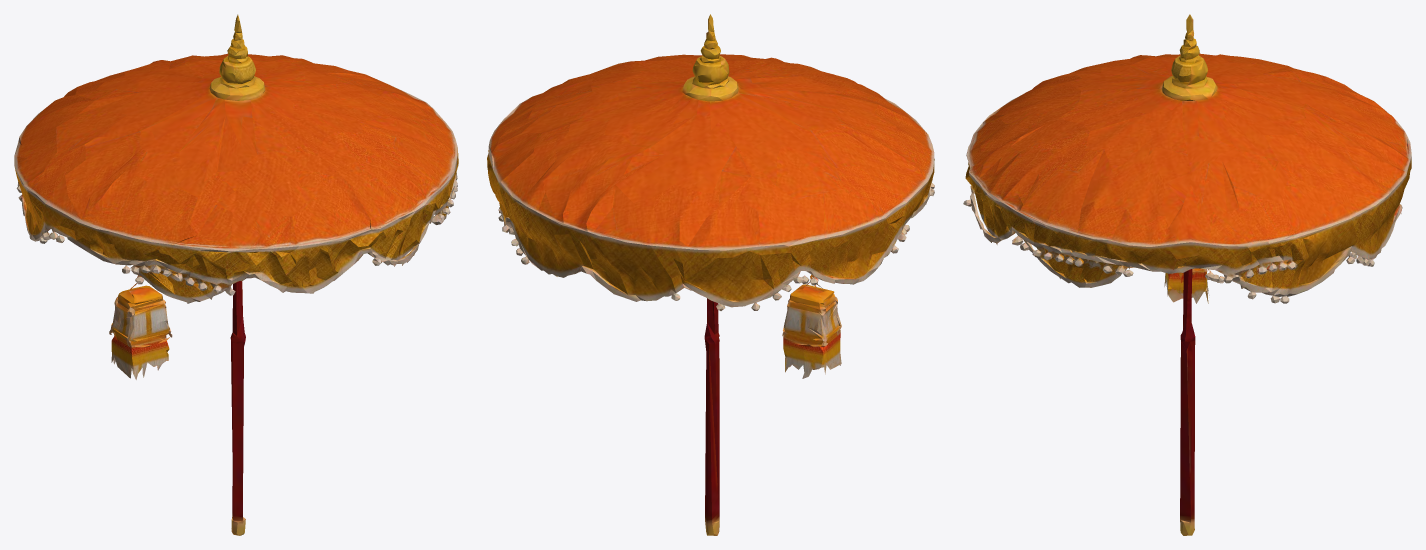
The model's file is w3parasol.glb.
The picture shows the model from 3 angles, left to right: view 1: azimuth 30°, elevation 25°; view 2: azimuth 150°, elevation 25°; view 3: azimuth 270°, elevation 25°; orthographic projection.
Parts seen in each view (by area): view 1: output_unwrapped; view 2: output_unwrapped; view 3: output_unwrapped.
Boxes of the visible parts, left/top/right/bottom form: output_unwrapped: left=14, top=14, right=458, bottom=535; output_unwrapped: left=487, top=14, right=934, bottom=535; output_unwrapped: left=963, top=14, right=1411, bottom=535.
Bounding box in the file's own units: 2.64 × 3.4 × 2.65.
1 material, 1 textured.
